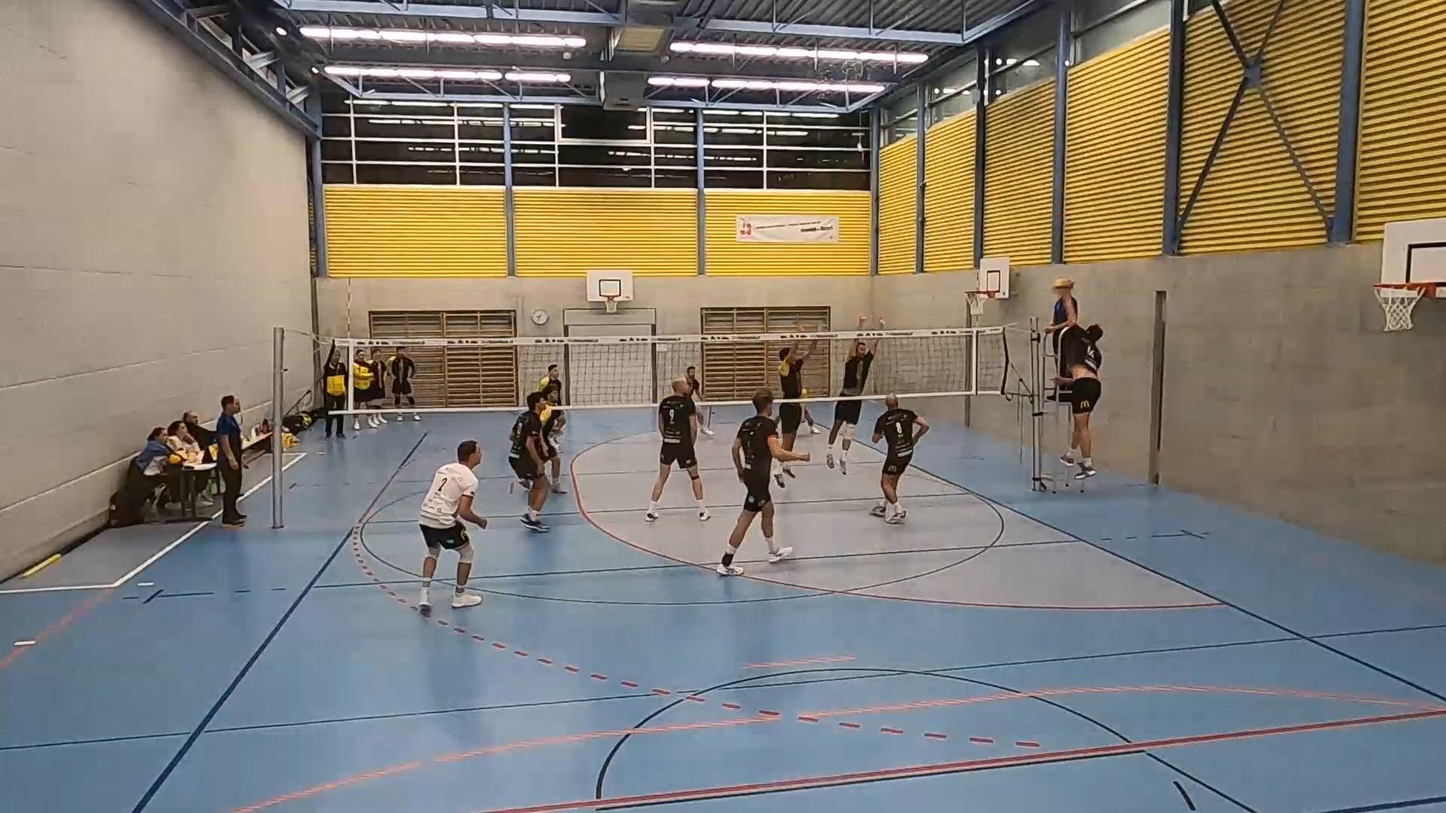attacco: (1049, 278, 1105, 482)
muro: (822, 300, 886, 482), (766, 307, 820, 491)
